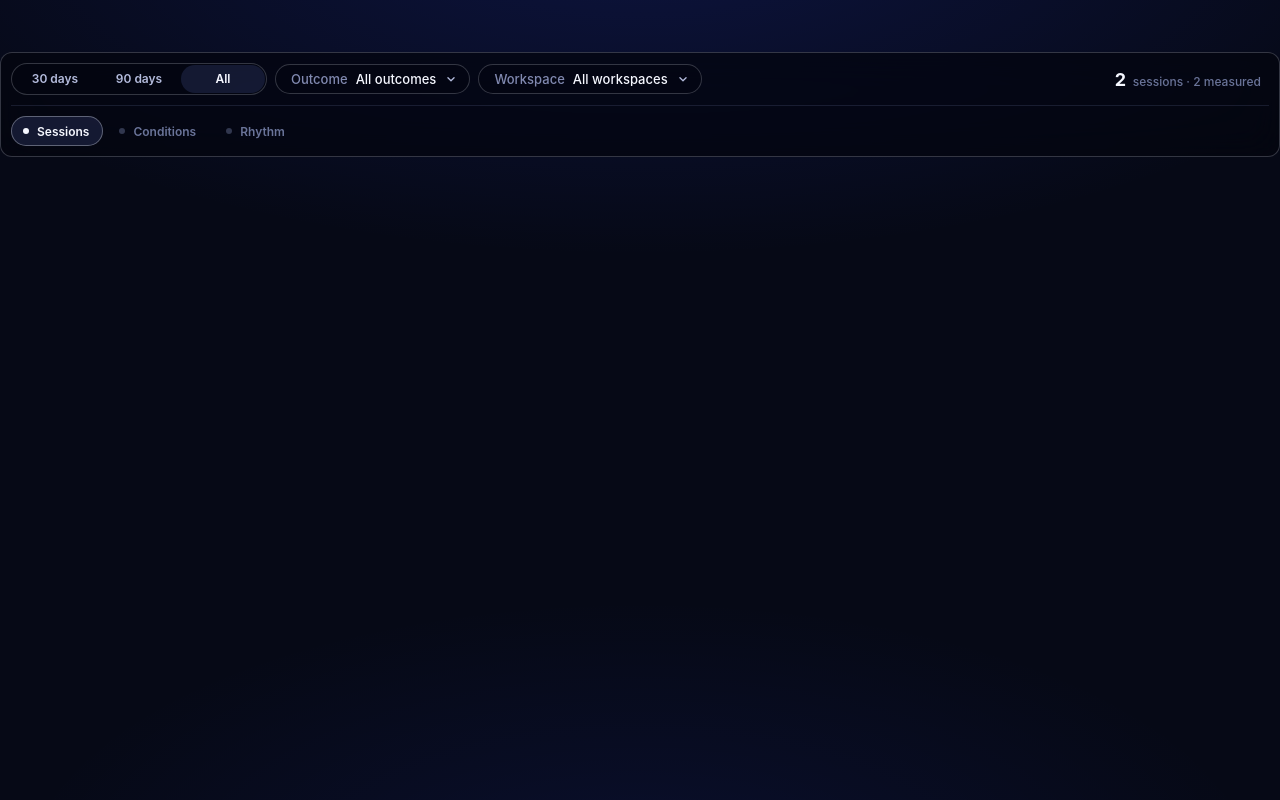
Analytics Details › uses the newest stored name for a renamed workspace filter
The width and height of the screenshot is (1280, 800).
What coordinates should you click on to do the following:
click the button "Workspace All workspaces"
I would click on:
 (590, 79)
Its box is [478,64,702,94].
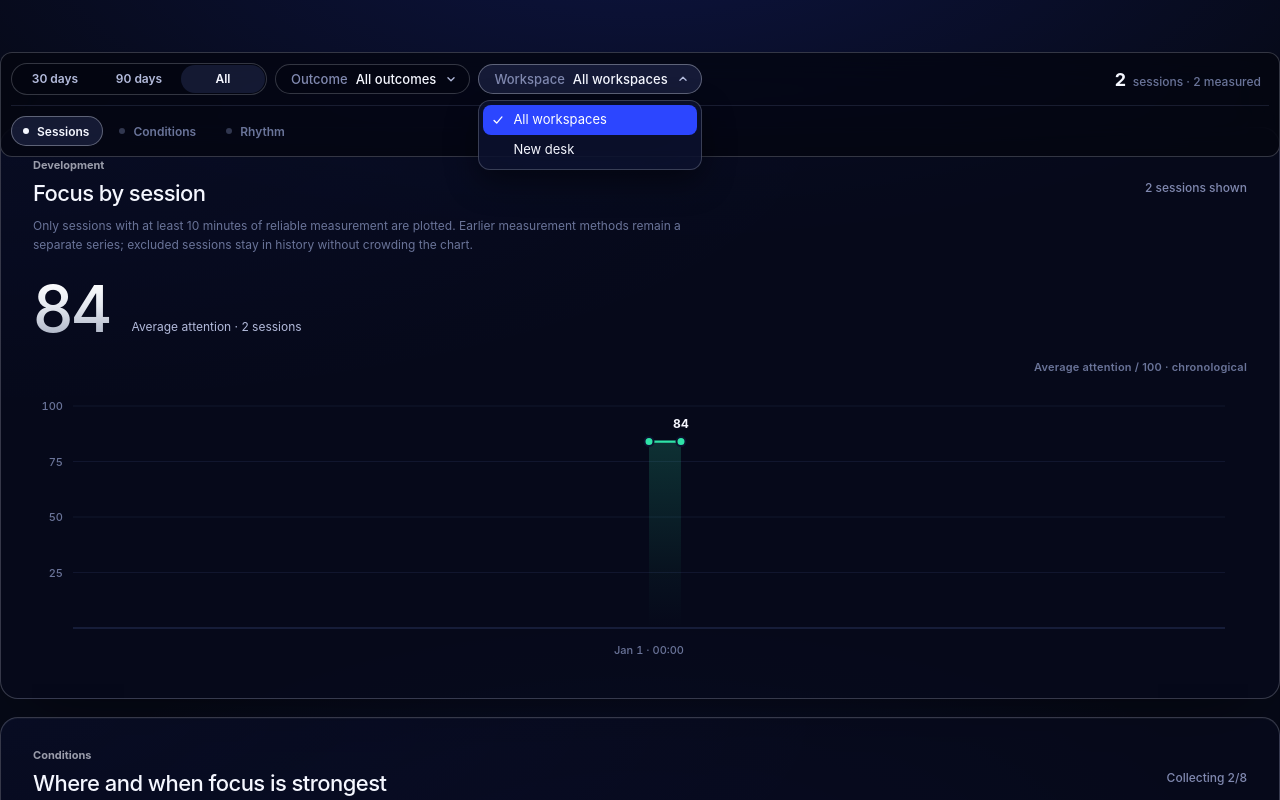
Expected: the option "New desk" is shown, [513,141,574,157]
